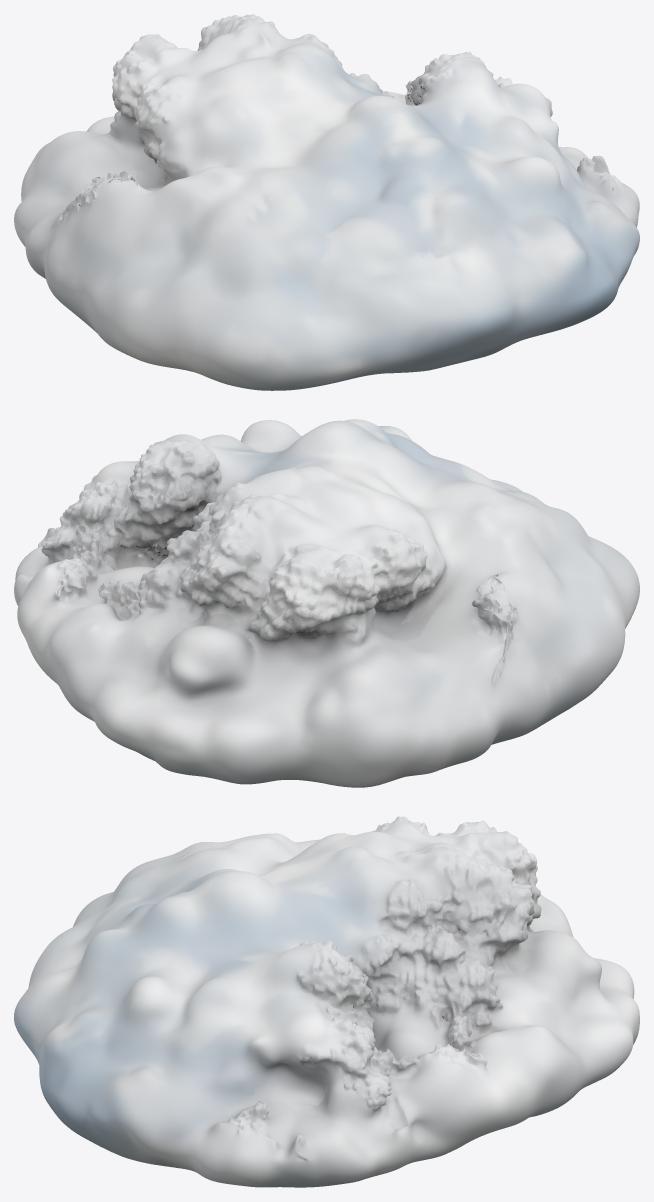
Rendered from cloud_nv1.glb.
3 renders of one model, top to bottom at view 1: azimuth 30°, elevation 25°; view 2: azimuth 150°, elevation 25°; view 3: azimuth 270°, elevation 25°, orthographic. The views are drawn at different scales.
Parts seen in each view (by area): view 1: model; view 2: model; view 3: model.
Part boxes in pixels (box(x1,y1,x2,y2)): model: box(14, 14, 639, 390); model: box(14, 419, 639, 787); model: box(14, 816, 639, 1187).
Bounding box in the file's own units: 1.87 × 0.7017 × 1.89.
Materials: 1 (1 with a texture image).
